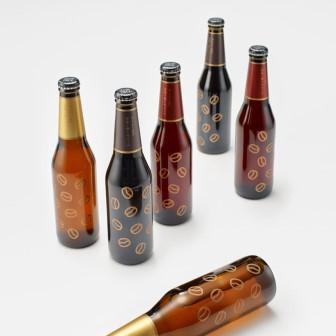beer: (50, 16, 284, 264)
